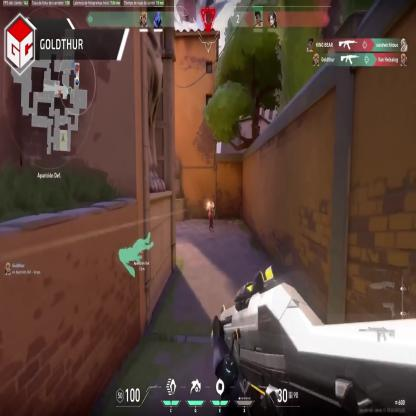enemy: (207, 196, 214, 232)
enemy_head: (209, 198, 212, 206)
